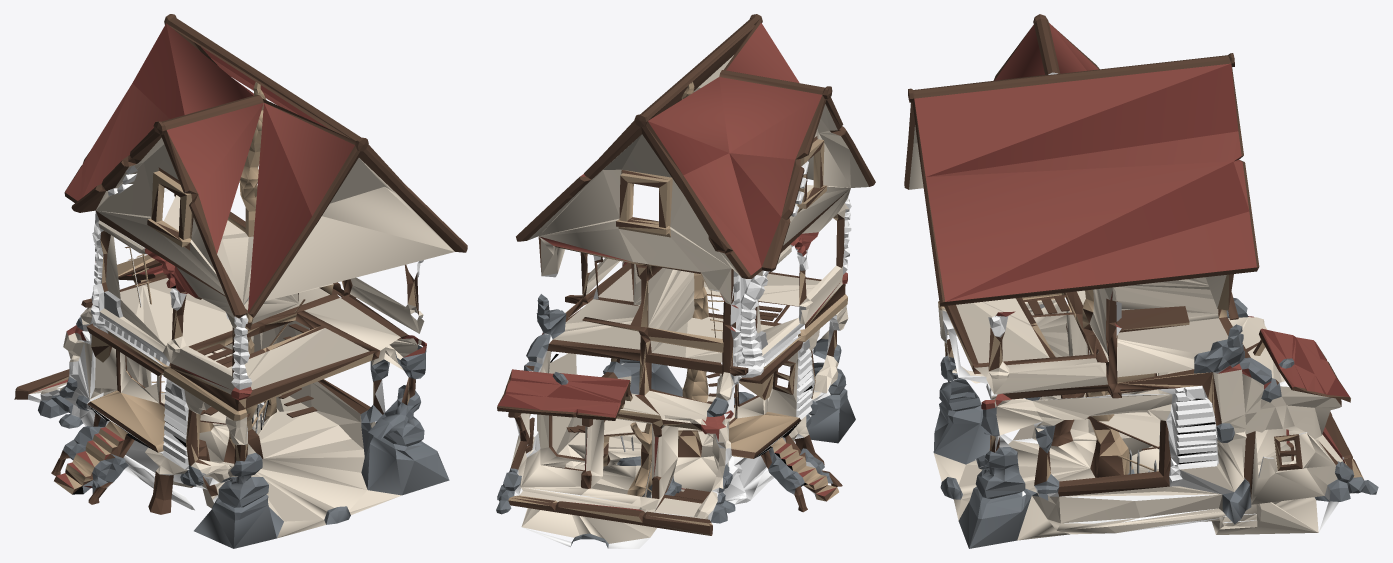
The model's file is 1_BrokenHouse_260725.glb.
3 renders of one model, left to right at view 1: azimuth 30°, elevation 25°; view 2: azimuth 150°, elevation 25°; view 3: azimuth 270°, elevation 25°, orthographic. The views are drawn at different scales.
Visible parts, largest first — view 1: tripo_node_6c804dc6-282e-4d6c-add3-ddf3f58798d4; view 2: tripo_node_6c804dc6-282e-4d6c-add3-ddf3f58798d4; view 3: tripo_node_6c804dc6-282e-4d6c-add3-ddf3f58798d4.
Part boxes in pixels (x1,y1,x2,y2): tripo_node_6c804dc6-282e-4d6c-add3-ddf3f58798d4: [14, 14, 467, 548]; tripo_node_6c804dc6-282e-4d6c-add3-ddf3f58798d4: [496, 14, 875, 548]; tripo_node_6c804dc6-282e-4d6c-add3-ddf3f58798d4: [904, 14, 1378, 548].
Bounding box in the file's own units: 9.81 × 12.76 × 12.56.
